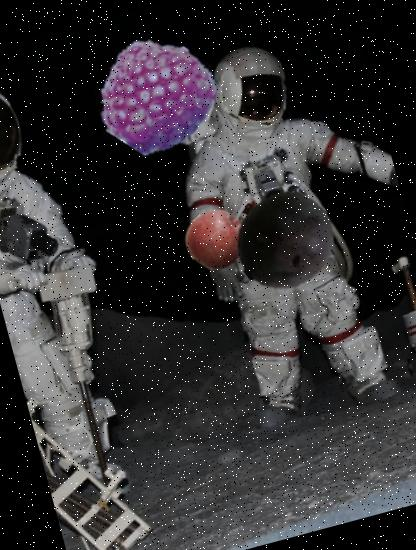Apple: (180, 202, 254, 278)
Plum: (222, 178, 348, 304)
Raspberry: (88, 27, 226, 165)
